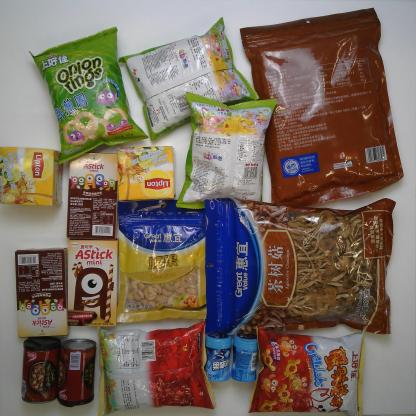Canned Food: (20, 337, 62, 403), (58, 338, 96, 406)
Dessert: (64, 238, 119, 328), (15, 248, 70, 337), (67, 149, 121, 239)
Dried Food: (240, 8, 404, 213), (204, 197, 396, 338)
Dried Fruit: (116, 200, 212, 323)
Gum: (203, 333, 233, 383), (232, 332, 261, 382)
Instant Drink: (0, 146, 63, 208), (117, 145, 175, 201)
Puffed Food: (118, 17, 261, 142), (27, 26, 148, 164), (175, 91, 278, 211), (97, 321, 221, 414), (248, 325, 365, 413)
